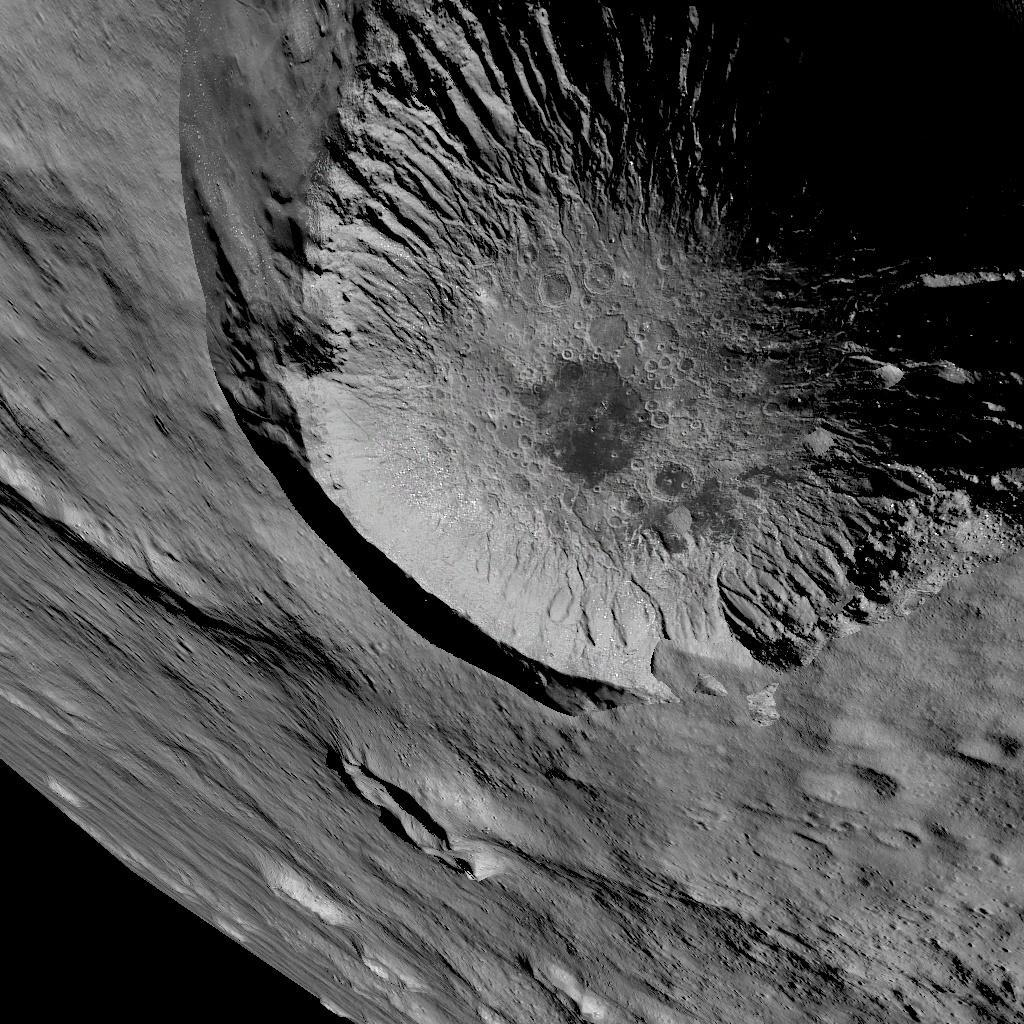Crater: (171, 0, 1024, 700), (308, 720, 492, 864)
Plan surface: (537, 730, 1024, 1024)
